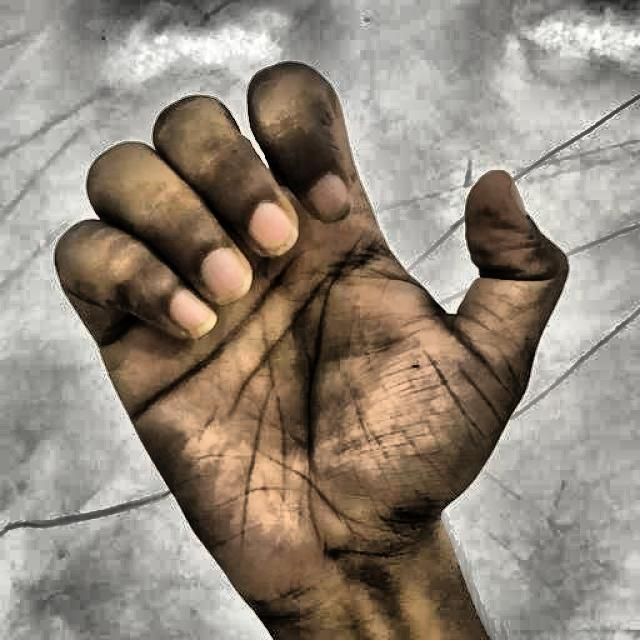Dho: (38, 57, 594, 609)
